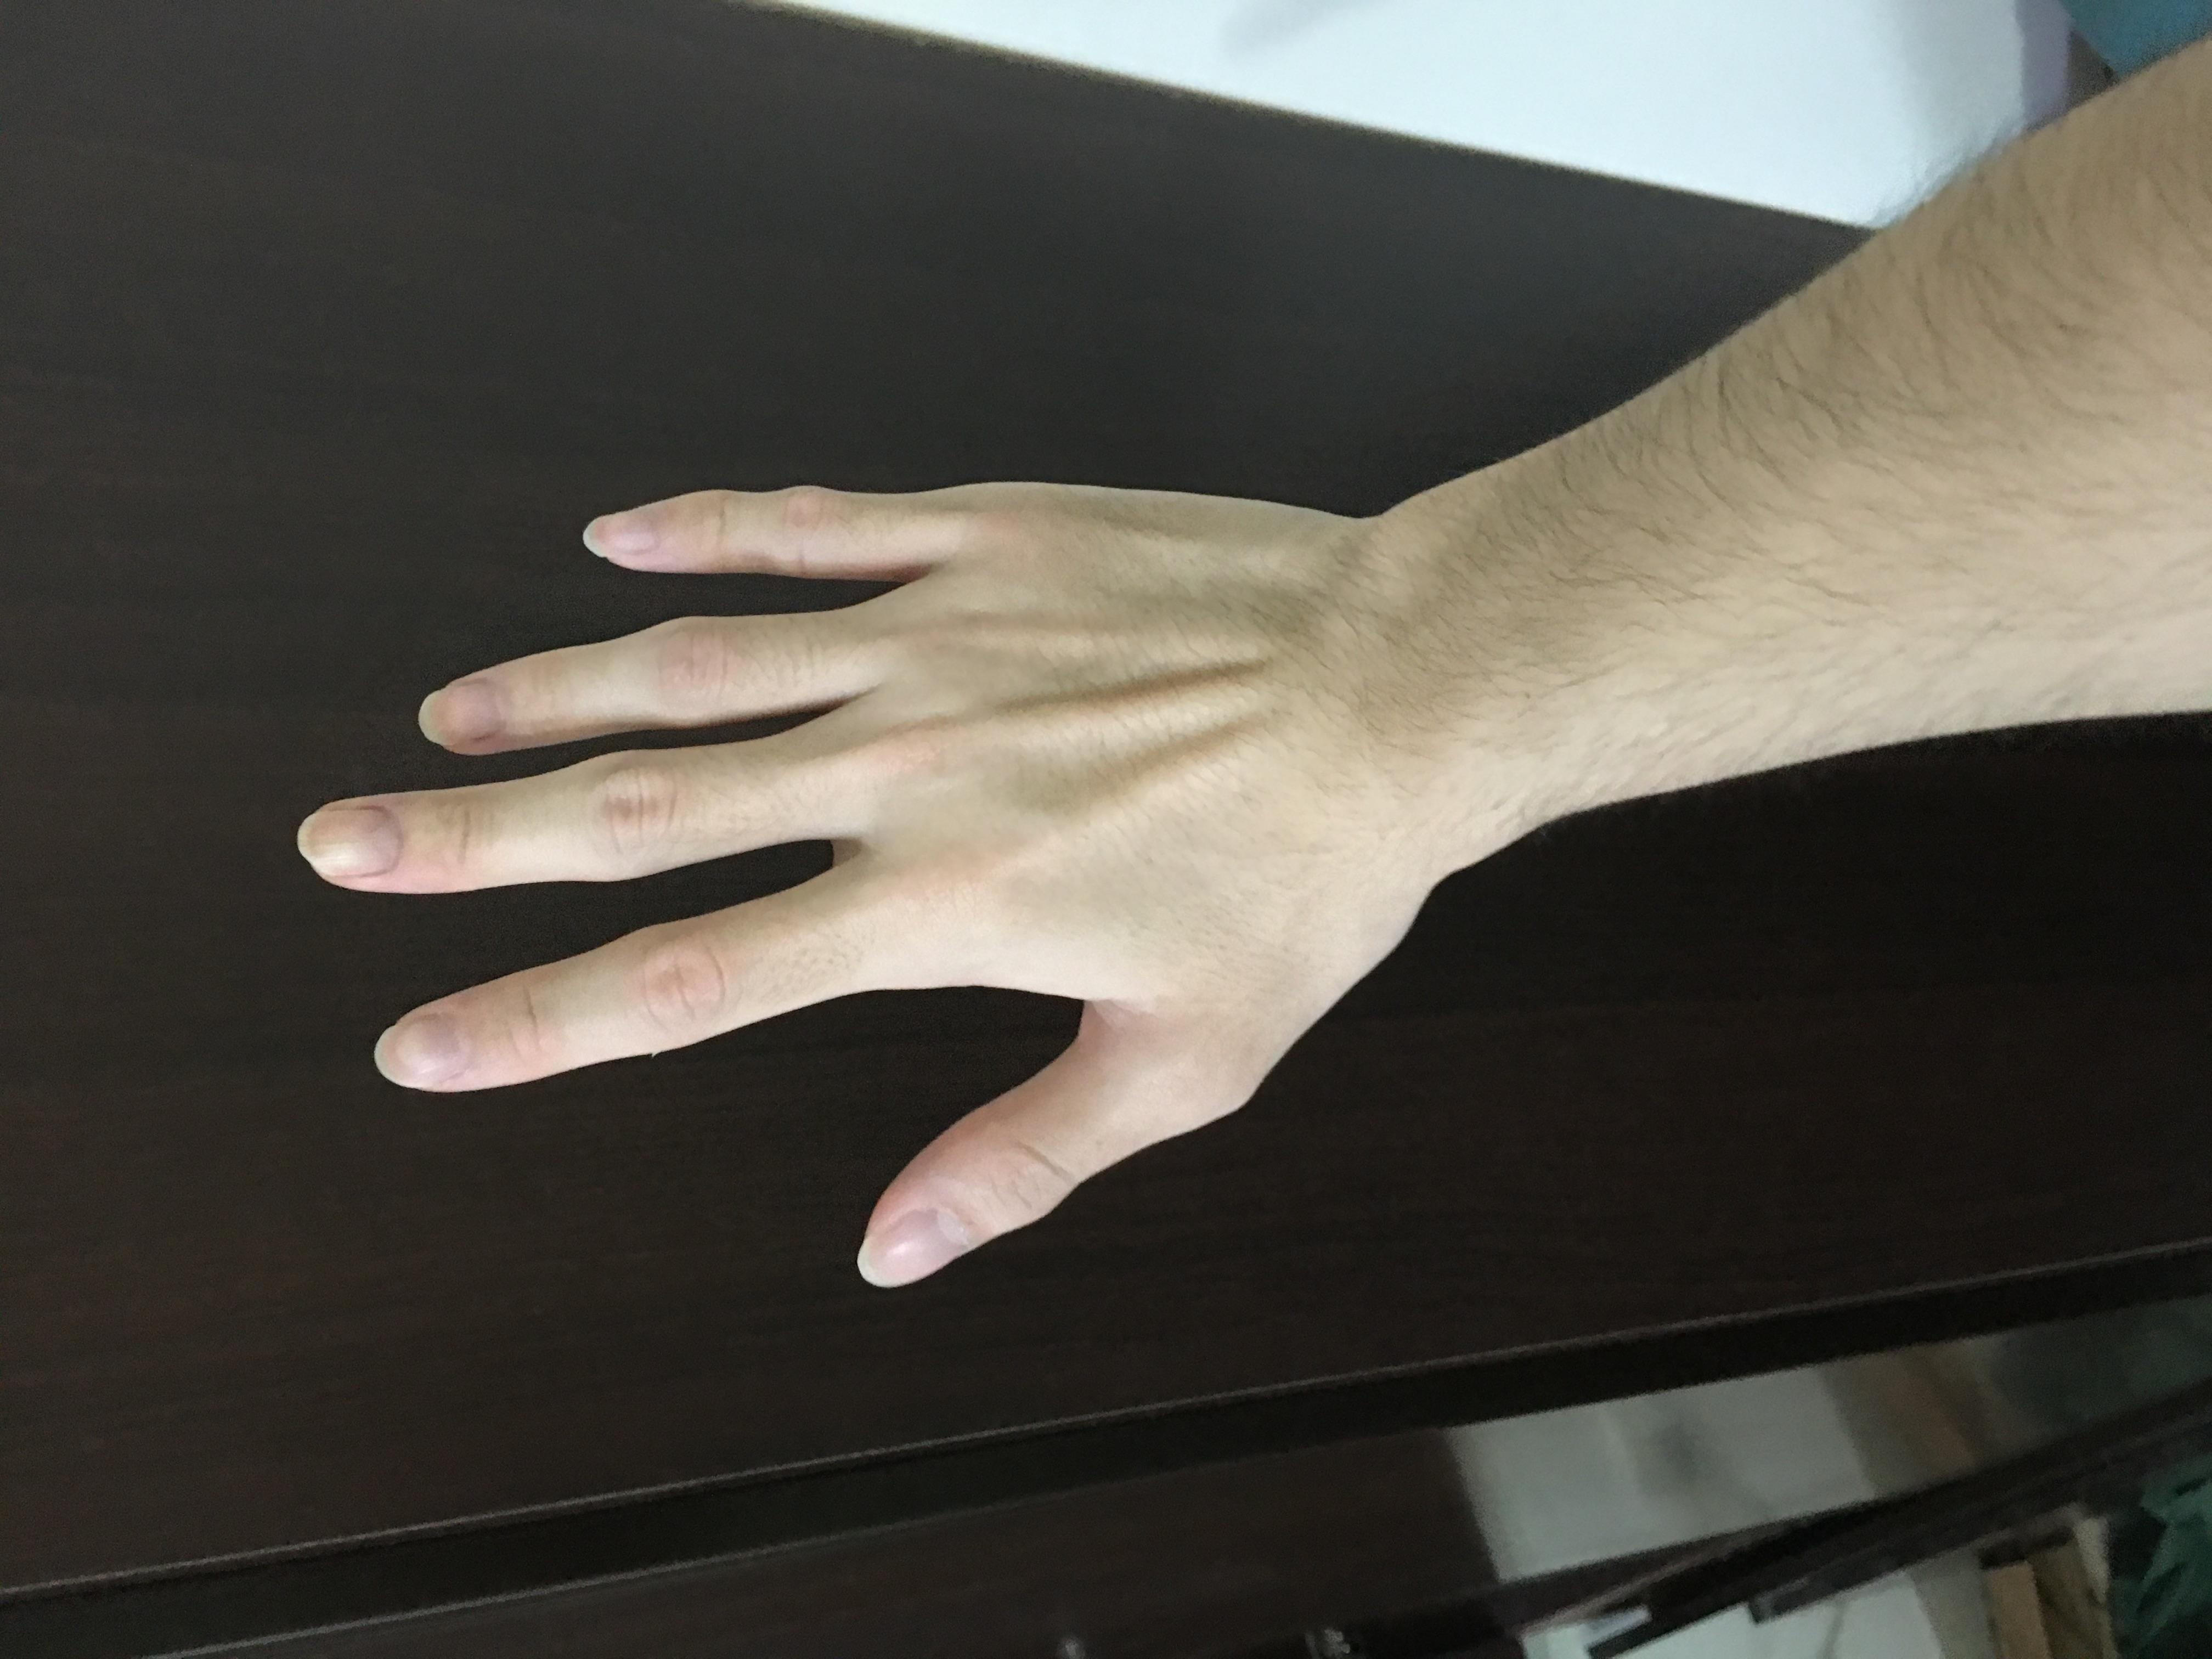hand: (491, 211, 1590, 1061)
